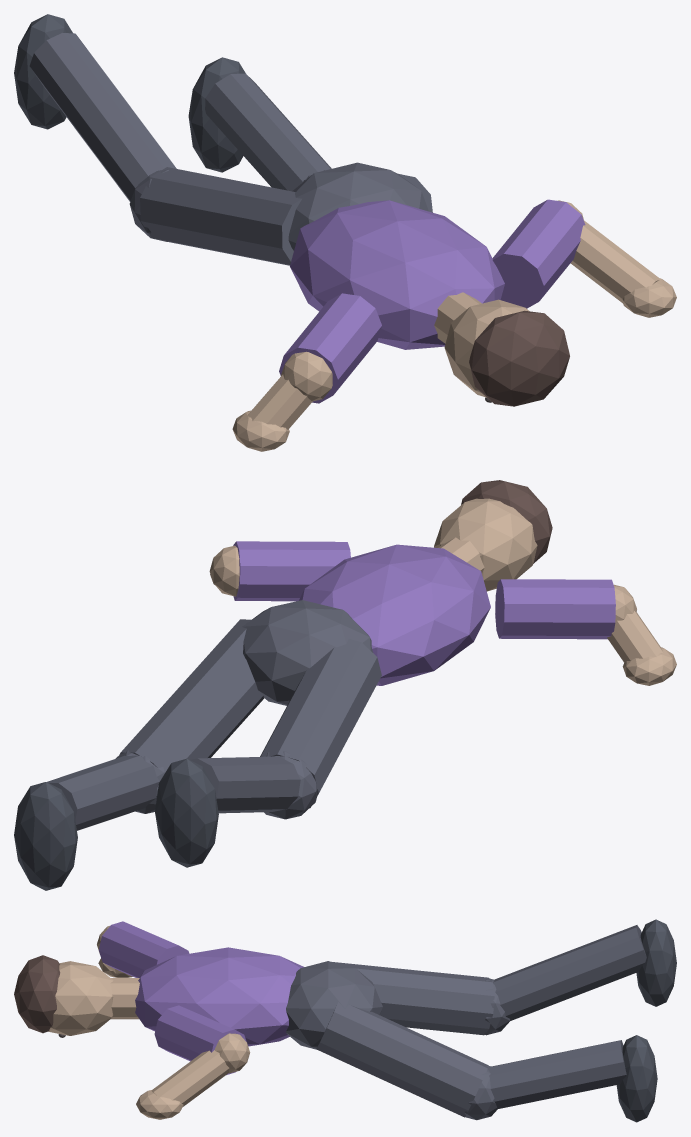
The picture shows the model from 3 angles, top to bottom: view 1: azimuth 30°, elevation 25°; view 2: azimuth 150°, elevation 25°; view 3: azimuth 270°, elevation 25°; orthographic projection. The views are drawn at different scales.
Visible parts, largest first — view 1: world; view 2: world; view 3: world.
Boxes of the visible parts, left/top/right/bottom form: world: left=14, top=14, right=676, bottom=451; world: left=14, top=480, right=676, bottom=890; world: left=14, top=919, right=676, bottom=1122.
Size of the model in its own units: 1.25 by 0.4905 by 2.06.
